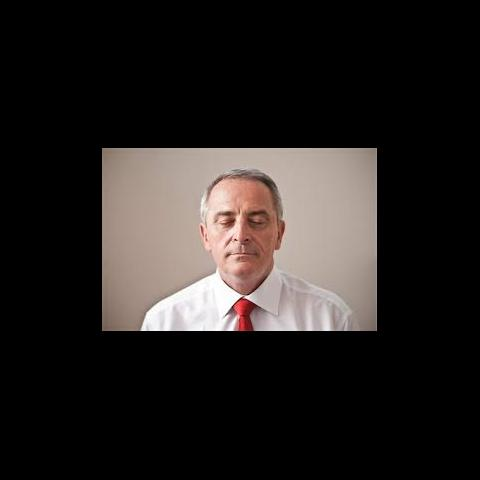closed: (212, 206, 274, 232)
